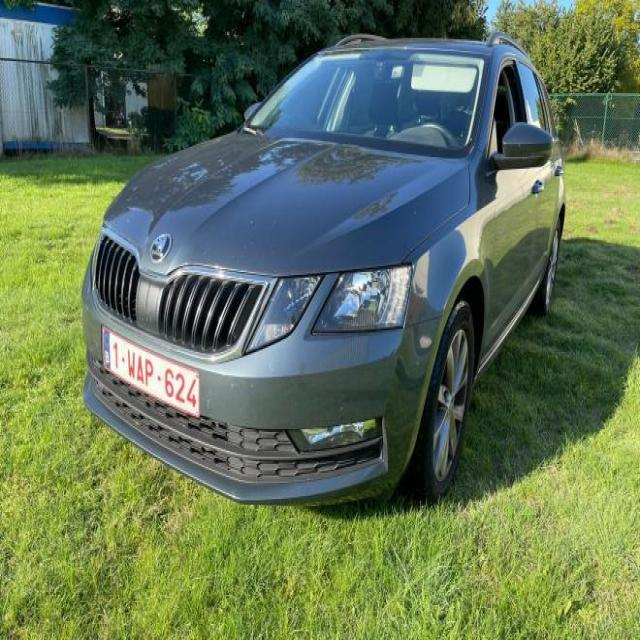yolov7-seg-car: (81, 31, 568, 506)
